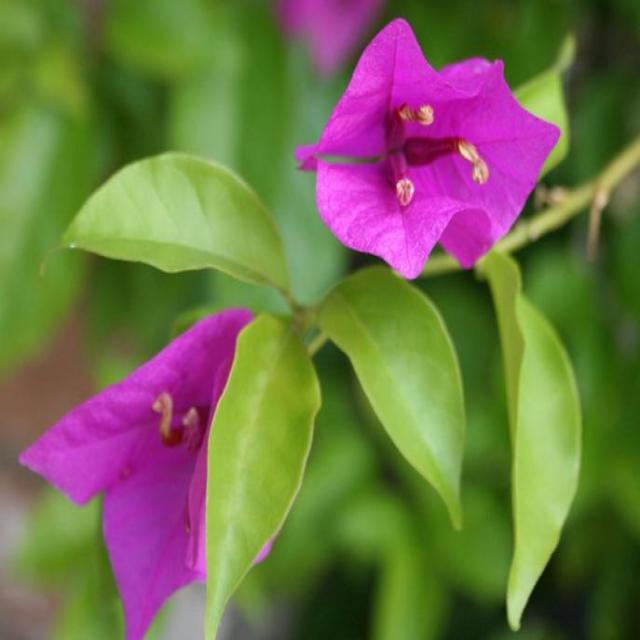bougainvillea: (19, 20, 640, 638)
